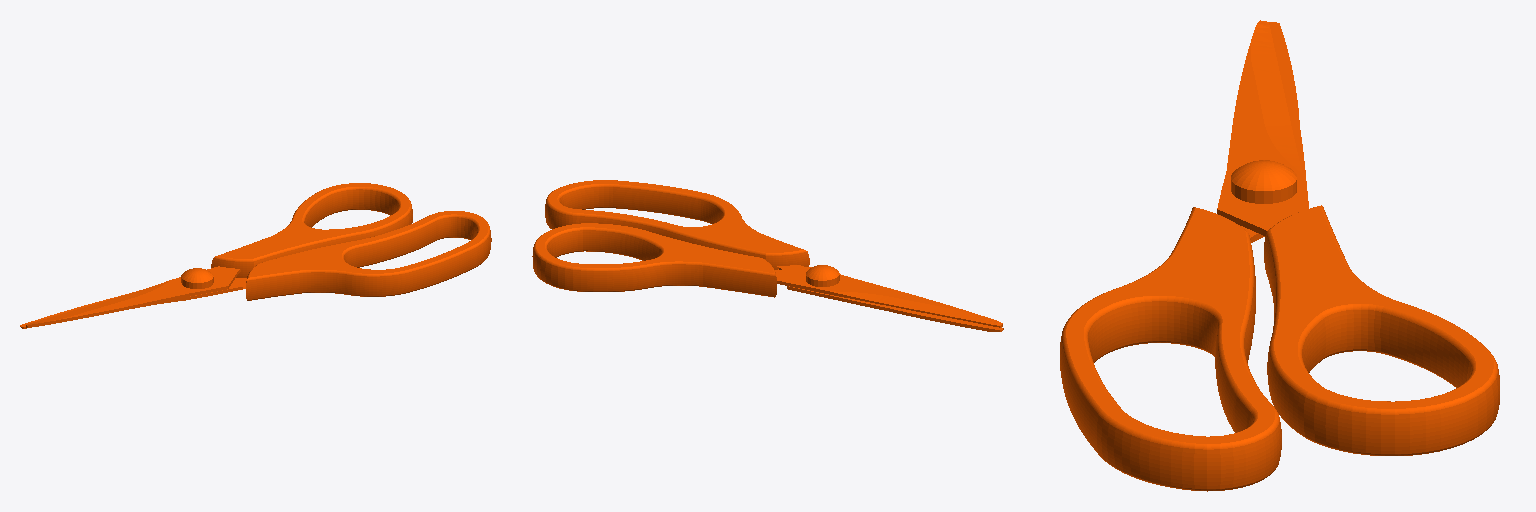
The robot description file, URDF, robot "Scissors_10429":
<?xml version="1.0" ?>
<robot name="Scissors_10429">
   <material name="obj_color">
      <color rgba="1.0 0.423529411765 0.0392156862745 1.0"/>
   </material>
   <link name="top">
      <inertial>
         <origin rpy="0.000215989203106833 0.0004035529403368344 0.0006105564197583506" xyz="0.028110551082555 0.0009180063404124981 0.0001030226571919647"/>
         <mass value="0.230446442637242"/>
         <inertia ixx="0.000216045561643934" ixy="-3.250790912624525e-06" ixz="4.977313569281374e-11" iyy="0.0004034965817997398" iyz="-3.483157506492102e-14" izz="0.0006105564197583442"/>
      </inertial>
      <visual>
         <origin rpy="0 0 0" xyz="0 0 0"/>
         <geometry>
            <mesh filename="top_watertight_tiny.stl" scale="1 1 1"/>
         </geometry>
         <material name="obj_color"/>
      </visual>
      <collision>
         <origin rpy="0 0 0" xyz="0 0 0"/>
         <geometry>
            <mesh filename="top_watertight_tiny.obj" scale="1 1 1"/>
         </geometry>
      </collision>
   </link>
   <link name="bottom">
      <inertial>
         <origin rpy="1.037523479843535e-06 2.895858971793414e-05 2.962672790462234e-05" xyz="-0.103705403833835 0.0002919313440602578 0.001676432846108027"/>
         <mass value="0.02314715940950672"/>
         <inertia ixx="1.059480270281267e-06" ixy="7.687164727273849e-07" ixz="-1.49147368691202e-07" iyy="2.893753198204561e-05" iyz="-4.956938673812147e-09" izz="2.962582885007315e-05"/>
      </inertial>
      <visual>
         <origin rpy="0 0 0" xyz="0 0 0"/>
         <geometry>
            <mesh filename="bottom_watertight_tiny.stl" scale="1 1 1"/>
         </geometry>
         <material name="obj_color"/>
      </visual>
      <collision>
         <origin rpy="0 0 0" xyz="0 0 0"/>
         <geometry>
            <mesh filename="bottom_watertight_tiny.obj" scale="1 1 1"/>
         </geometry>
      </collision>
   </link>
   <joint name="rotation" type="revolute">
      <origin xyz="0 0 0"/>
      <axis xyz="0 0 -1"/>
      <parent link="bottom"/>
      <child link="top"/>
      <dynamics damping="1.0" friction="1.0"/>
      <limit effort="0.1" velocity="0.1" lower="0" upper="0.001"/>
   </joint>
</robot>

--- Render facts (derived) ---
3 views of the same robot in one strip: view 1: azimuth 30°, elevation 25°; view 2: azimuth 150°, elevation 25°; view 3: azimuth 270°, elevation 25° (orthographic).
Robot: Scissors_10429 — 2 links, 1 joints (1 revolute); root link bottom; default pose: all joints at 0.
Visible links, largest first — view 1: top, bottom; view 2: top, bottom; view 3: top, bottom.
Link boxes in pixels (x1,y1,x2,y2): top: (211,183,491,300); bottom: (20,266,246,328); top: (532,180,809,297); bottom: (775,265,1003,331); top: (1060,205,1499,491); bottom: (1217,20,1308,242).
Bounding box of the posed robot: 0.3117 × 0.1295 × 0.018 m (x, y, z).
Meshes: 2 distinct files referenced, 2 mesh visuals loaded (2 binary STL).